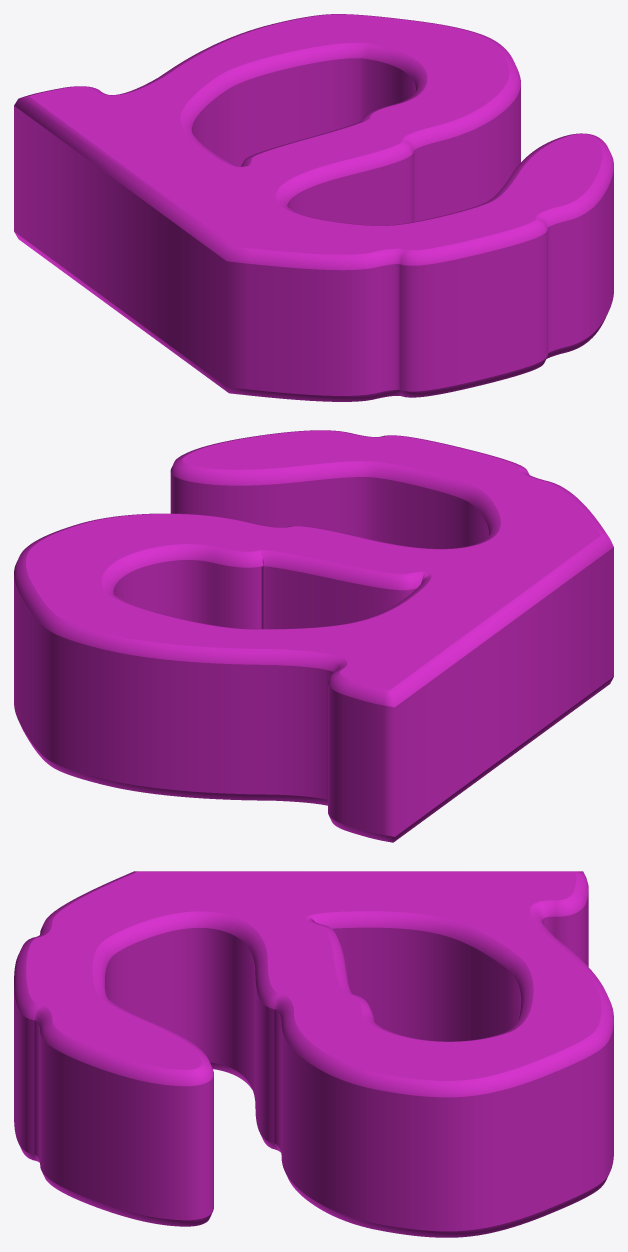
Rendered from Blocky_Letter_a.fbx.
3 renders of one model, top to bottom at view 1: azimuth 30°, elevation 25°; view 2: azimuth 150°, elevation 25°; view 3: azimuth 270°, elevation 25°, orthographic. The views are drawn at different scales.
Visible parts, largest first — view 1: BlockyLetter_a; view 2: BlockyLetter_a; view 3: BlockyLetter_a.
Boxes of the visible parts, x1,y1,x2,y2 form: BlockyLetter_a: (14,14,613,401); BlockyLetter_a: (14,430,613,842); BlockyLetter_a: (14,871,613,1237).
Size of the model in its own units: 0.4221 by 0.14 by 0.487.
